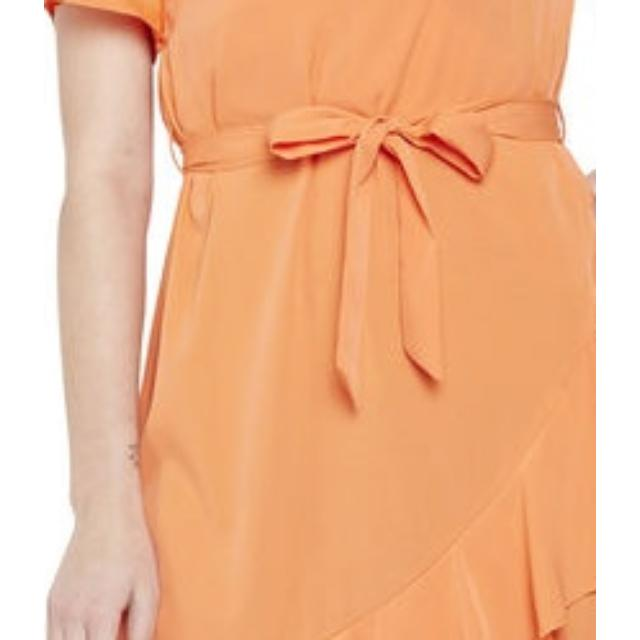polyester: (148, 0, 596, 640)
